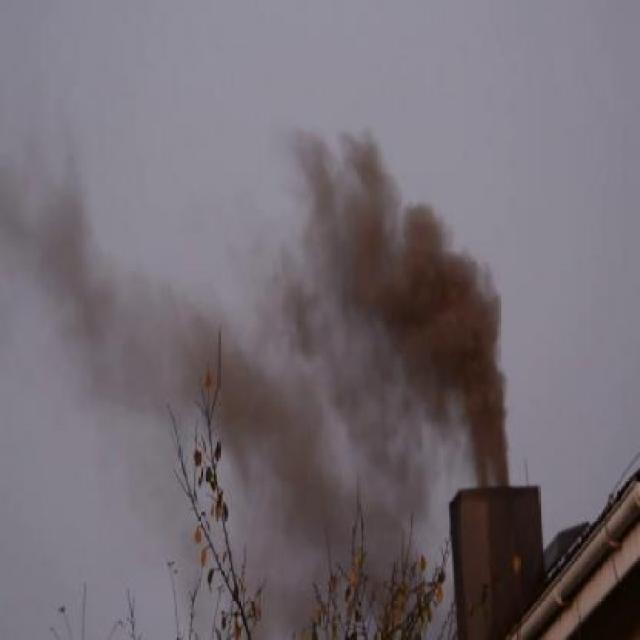smoke: (240, 114, 526, 477), (18, 123, 190, 422)
